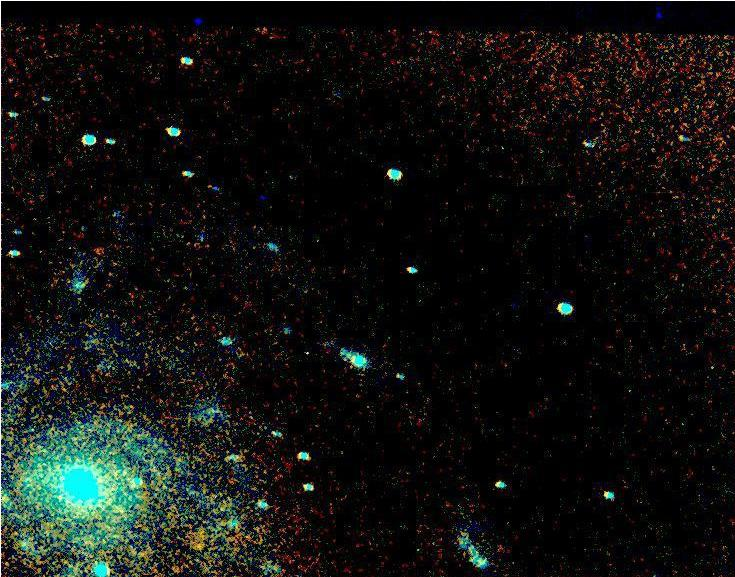star: (289, 338, 319, 368)
